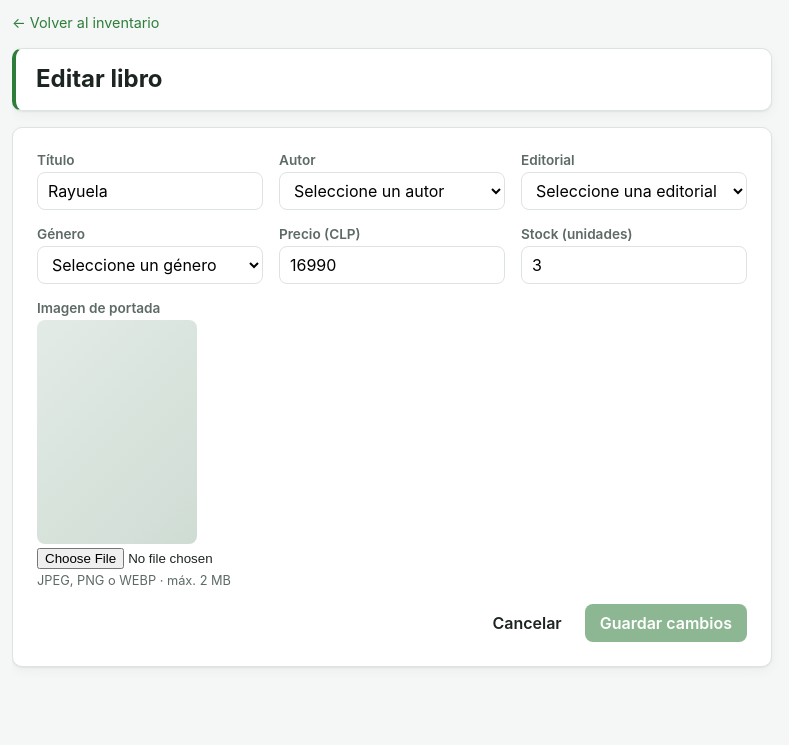
Test: BookEditPage › pre-fills the form, saves and stays on the edit page with a confirmation
Expected: the field labelled "Título" holds "Rayuela", [37,172,263,210]
Replace the text in the number field labelled "Precio (CLP)" with "20000". click: (392, 265)
box: [279,246,505,284]
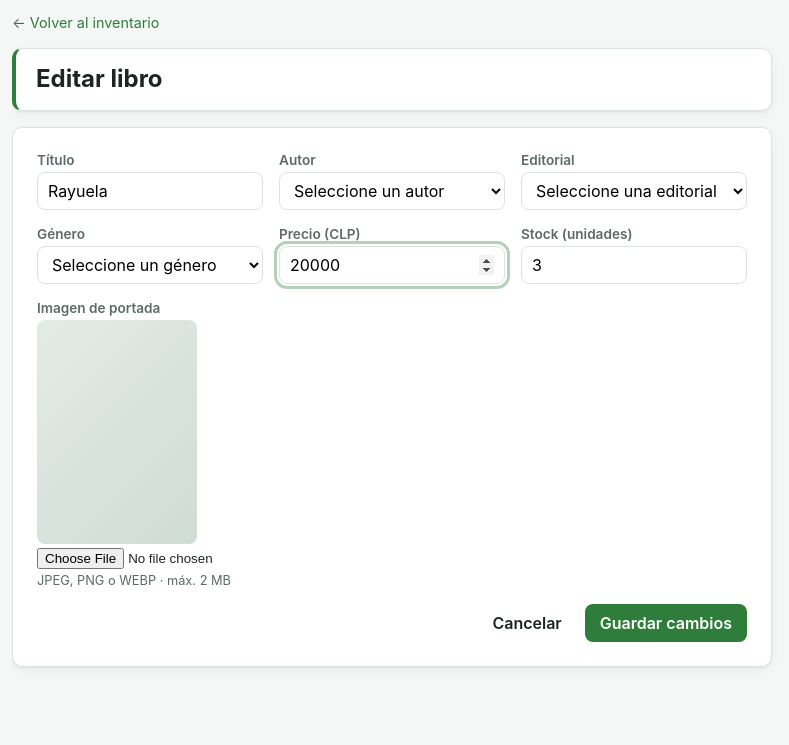
Expected: the button "Guardar cambios" is enabled
Click the button "Guardar cambios". click: click(666, 623)
box: [585,604,747,642]
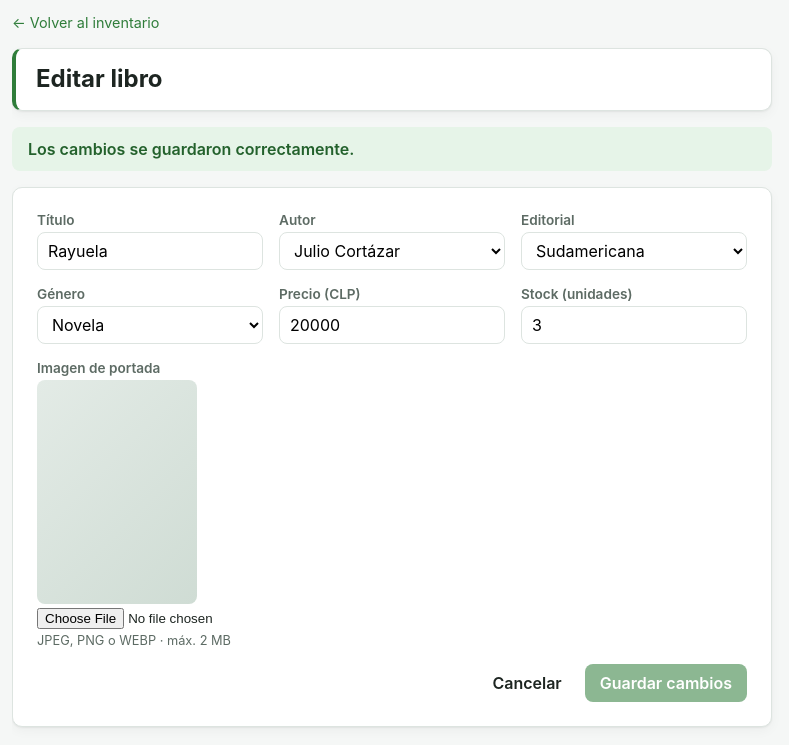
Expected: the message reads "Los cambios se guardaron correctamente.", [28,139,354,159]
Expected: the number field labelled "Precio (CLP)" holds "20000", [279,306,505,344]
Expected: the button "Guardar cambios" is disabled, [585,664,747,702]
